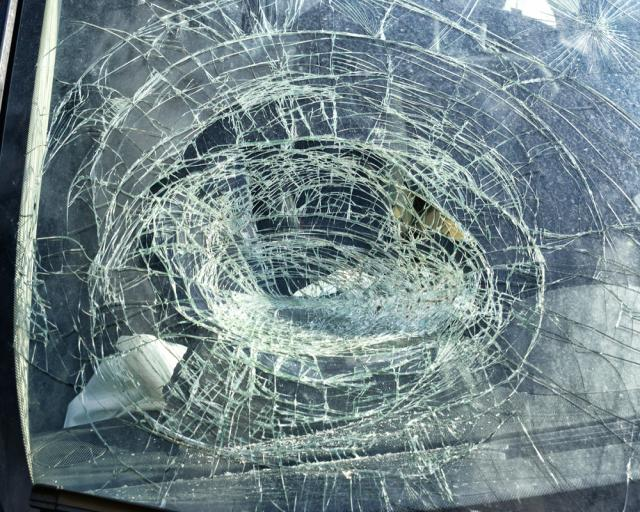glass shatter: (13, 0, 640, 512)
